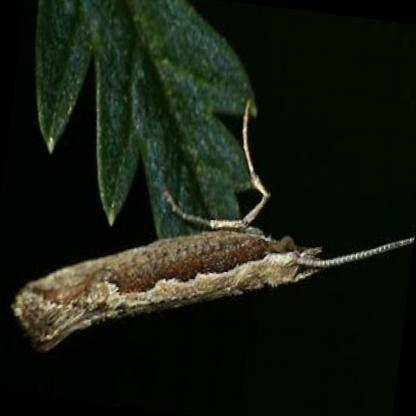plutella: (12, 194, 412, 351)
